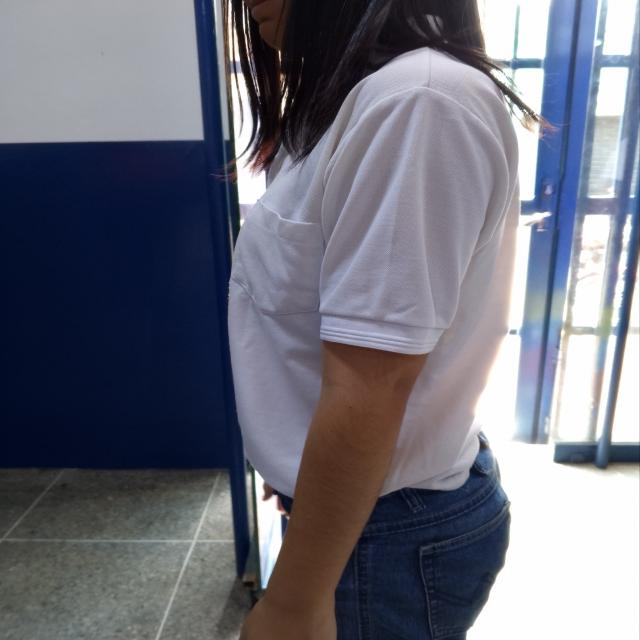pantalon_oscuro: (279, 461, 510, 640)
